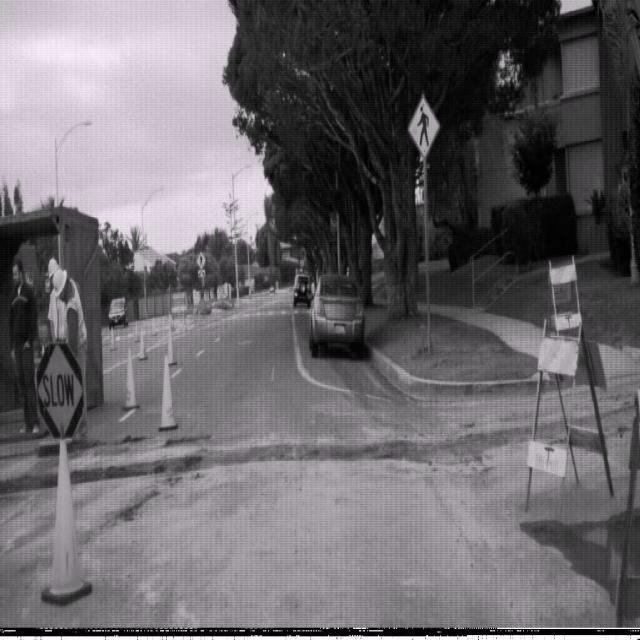pedestrianCrossing: (408, 92, 440, 159), (195, 250, 206, 271)
